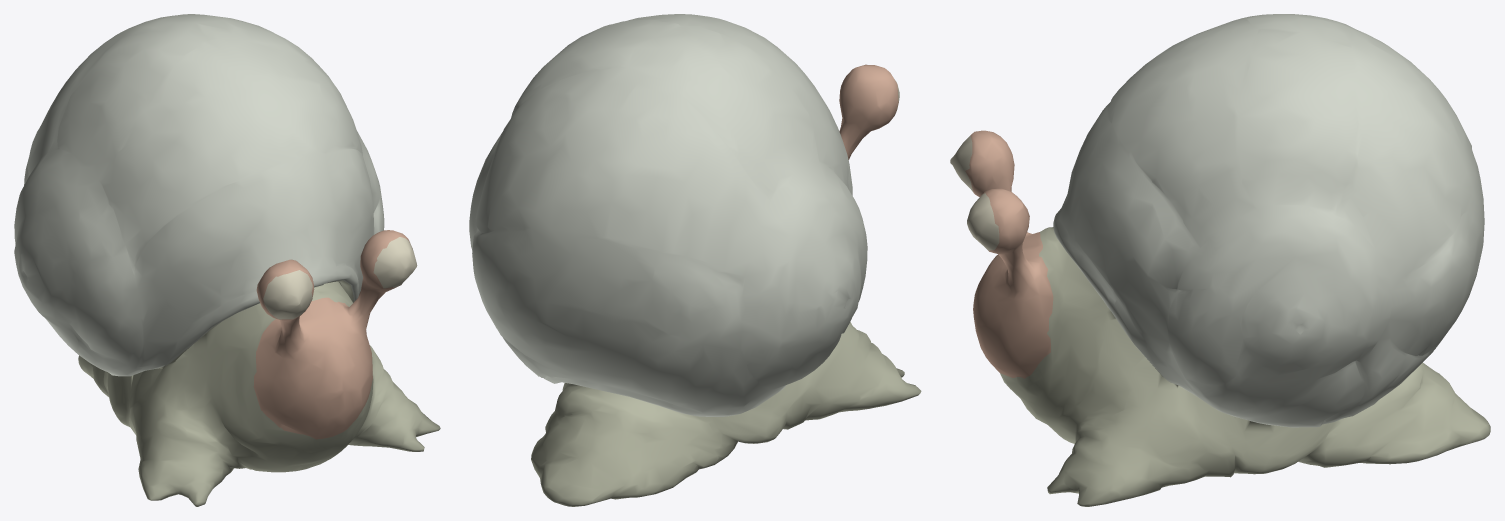
File: roller.glb
The picture shows the model from 3 angles, left to right: view 1: azimuth 30°, elevation 25°; view 2: azimuth 150°, elevation 25°; view 3: azimuth 270°, elevation 25°; orthographic projection. The views are drawn at different scales.
Parts seen in each view (by area): view 1: pearl roller tripo; view 2: pearl roller tripo; view 3: pearl roller tripo.
Part boxes in pixels (left/top/right/bottom): pearl roller tripo: left=14, top=14, right=440, bottom=506; pearl roller tripo: left=469, top=14, right=921, bottom=506; pearl roller tripo: left=950, top=14, right=1490, bottom=506.
Bounding box in the file's own units: 1.59 × 1.68 × 2.03.
